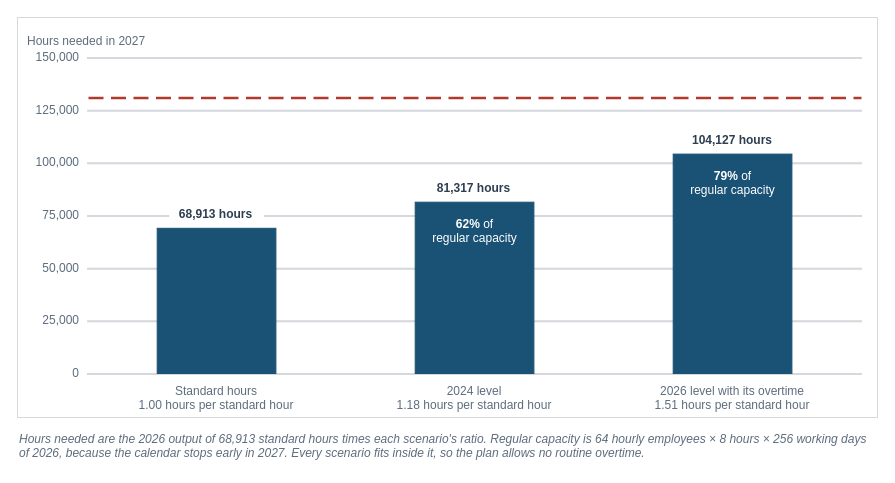
This 895x483 diagram has some shape labels left out. The centre of each missing label's shape, as x and y in pixels:
"53% of regular capacity" belongs at (216,300).
"Regular capacity: 131,072 hours" belongs at (198,82).
